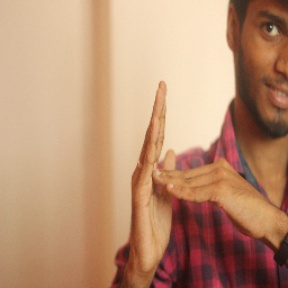Z: (125, 78, 269, 268)
